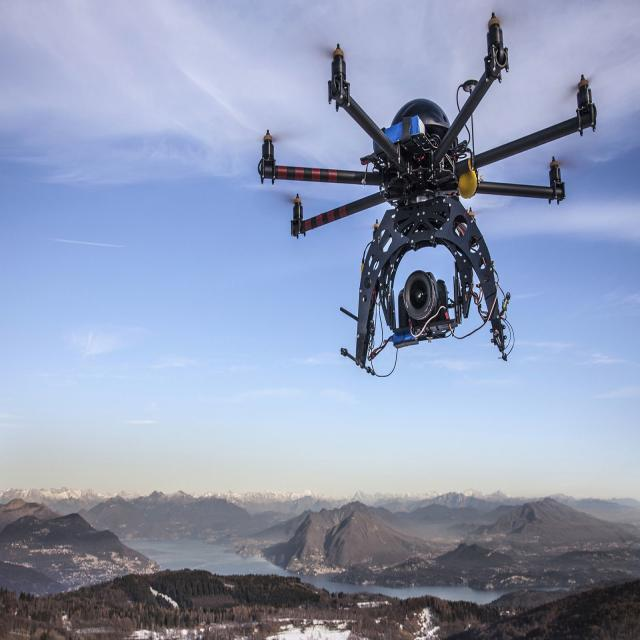drone: (220, 21, 620, 294)
